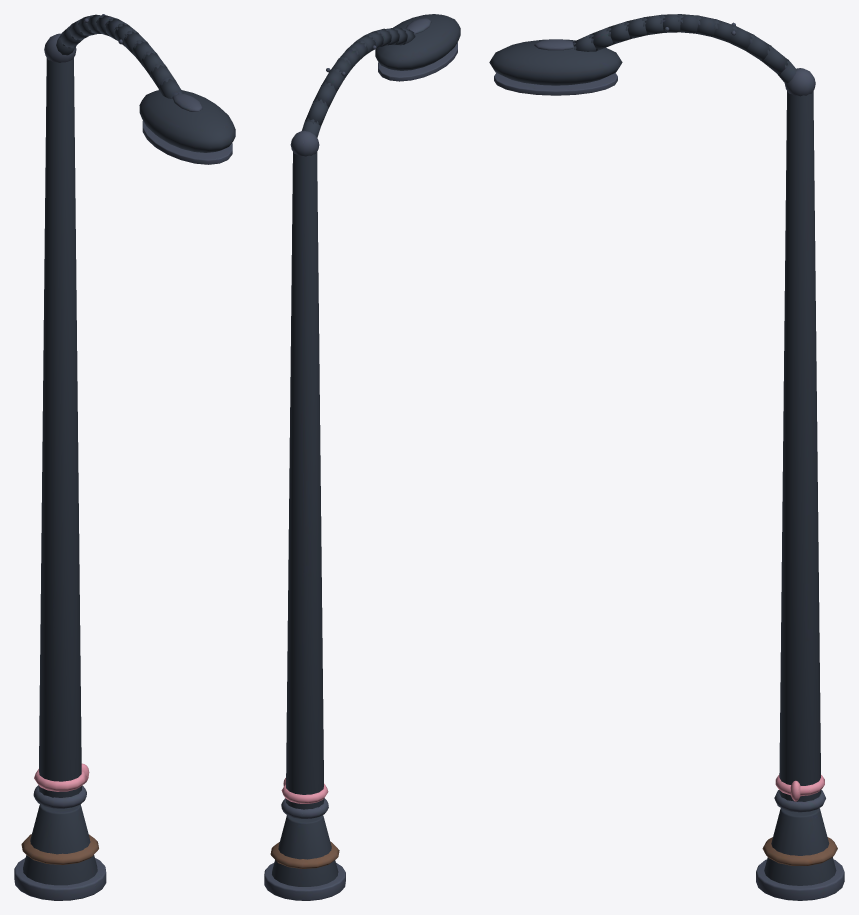
File: trumua-street-lamp.glb
3 views of the same model, side by side, from view 1: azimuth 30°, elevation 25°; view 2: azimuth 150°, elevation 25°; view 3: azimuth 270°, elevation 25° (orthographic). The views are drawn at different scales.
Visible parts, largest first — view 1: trumua-street-lamp; view 2: trumua-street-lamp; view 3: trumua-street-lamp.
Boxes of the visible parts, <box> form: trumua-street-lamp: <box>14,14,235,900</box>; trumua-street-lamp: <box>264,14,460,900</box>; trumua-street-lamp: <box>489,14,844,900</box>.
Bounding box in the file's own units: 0.3989 × 4.3 × 1.6.
2 materials, 1 textured.
